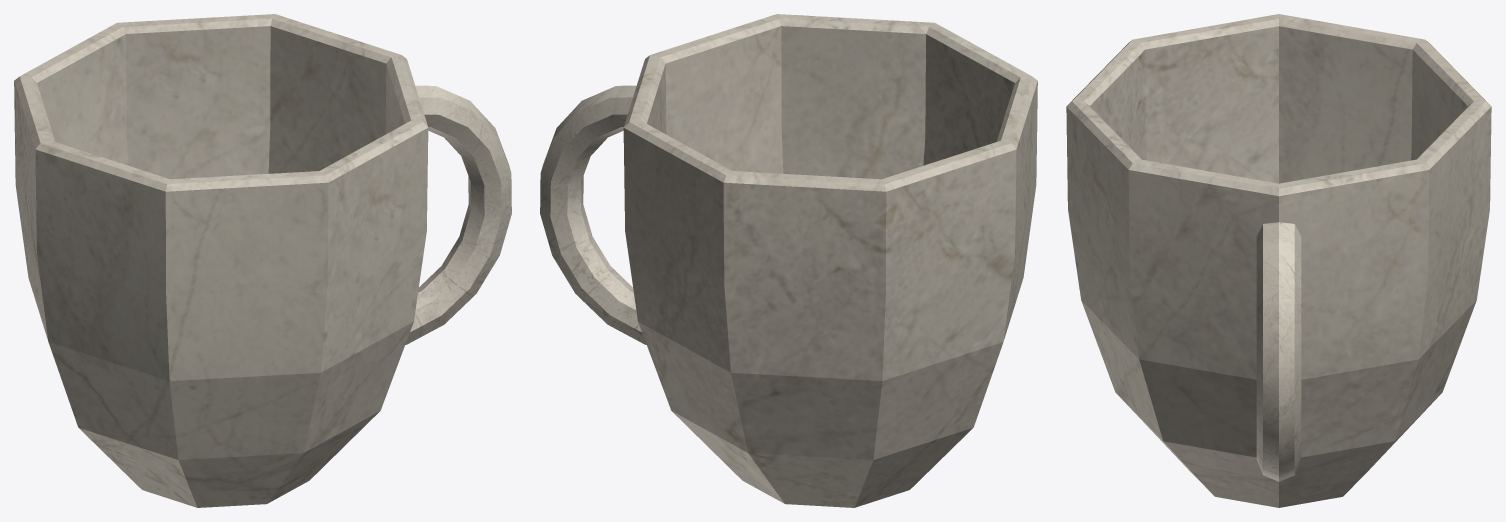
The model's file is cup.fbx.
3 renders of one model, left to right at view 1: azimuth 30°, elevation 25°; view 2: azimuth 150°, elevation 25°; view 3: azimuth 270°, elevation 25°, orthographic.
Visible parts, largest first — view 1: cup1; view 2: cup1; view 3: cup1.
Part boxes in pixels (x1=…): cup1: x1=14, y1=14, x2=511, y2=507; cup1: x1=540, y1=14, x2=1037, y2=507; cup1: x1=1066, y1=14, x2=1491, y2=507.
Size of the model in its own units: 0.1996 by 0.1495 by 0.1564.
